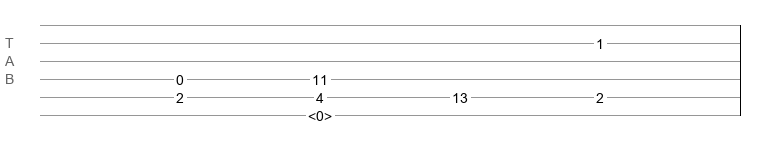0: (176, 72, 184, 82)
1: (596, 36, 604, 46)
11: (312, 72, 328, 82)
13: (452, 90, 468, 100)
2: (176, 90, 184, 100), (596, 90, 604, 100)
4: (316, 90, 324, 100)
harmonic: (308, 108, 332, 118)
